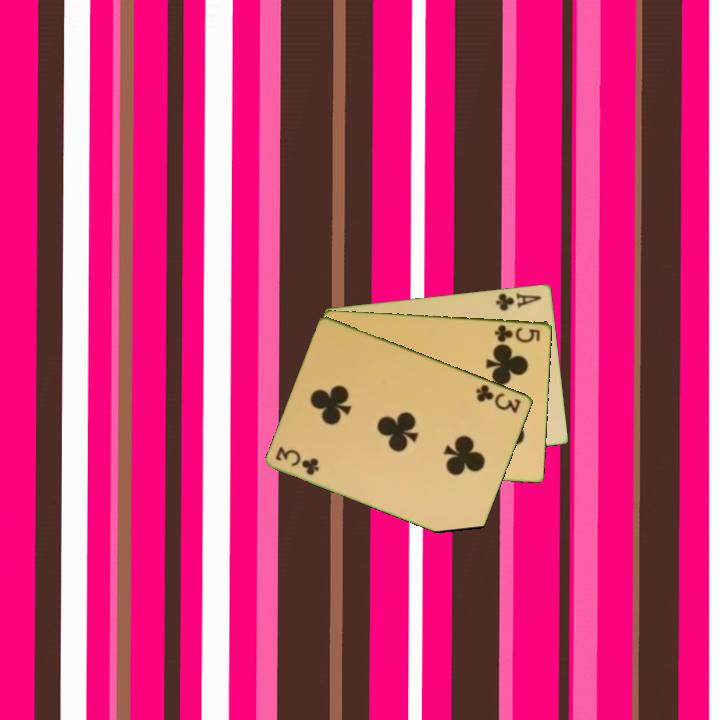3c: (473, 381, 524, 416), (272, 443, 322, 478)
5c: (491, 321, 543, 345)
Ac: (492, 289, 545, 313)
